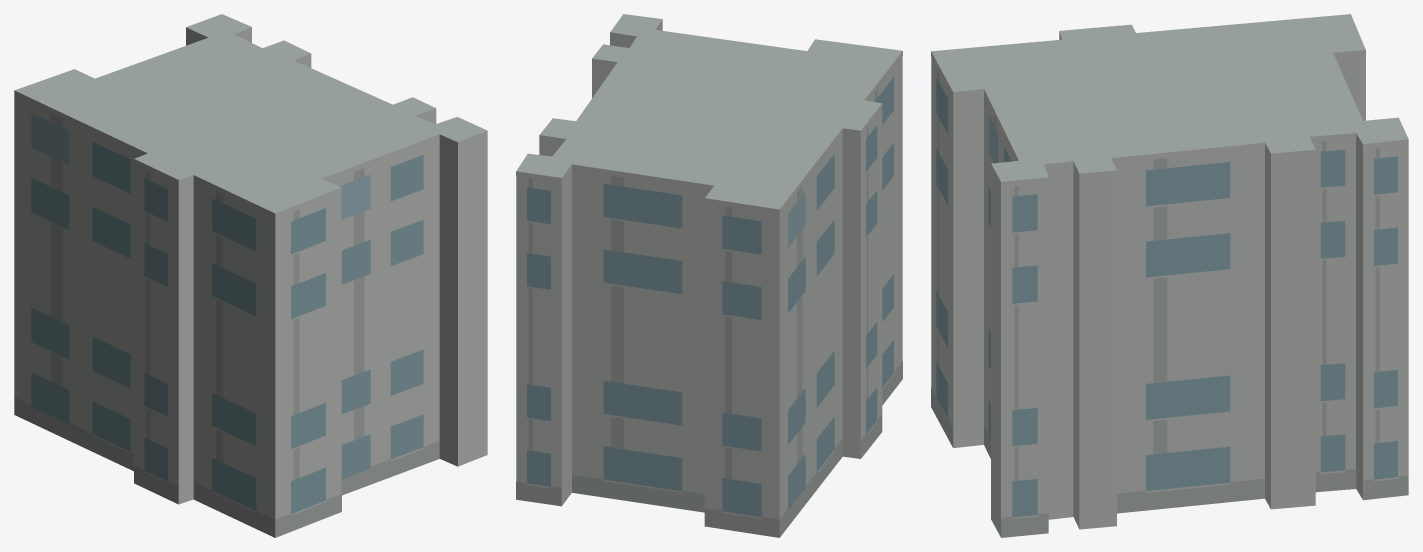
File: survey-upis-32913080.glb
3 renders of one model, left to right at view 1: azimuth 30°, elevation 25°; view 2: azimuth 150°, elevation 25°; view 3: azimuth 270°, elevation 25°, orthographic. The views are drawn at different scales.
Visible parts, largest first — view 1: survey-upis-32913080.tmp; view 2: survey-upis-32913080.tmp; view 3: survey-upis-32913080.tmp.
Boxes of the visible parts, x1,y1,x2,y2 form: survey-upis-32913080.tmp: (14,14,487,537); survey-upis-32913080.tmp: (516,14,902,537); survey-upis-32913080.tmp: (931,14,1408,537).
Size of the model in its own units: 15.4 by 15.2 by 18.49.
